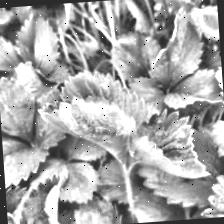Powdery Mildew Leaf: (34, 90, 140, 180), (58, 63, 151, 135), (13, 170, 88, 224)
